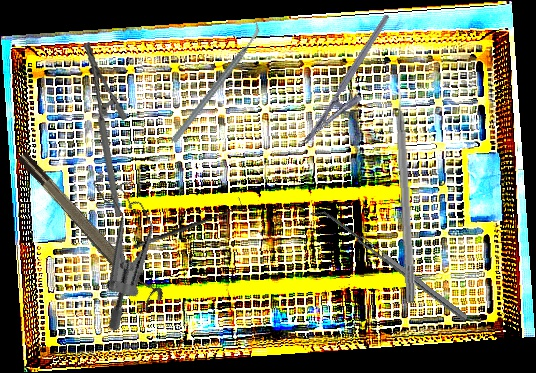Chopper: (140, 19, 292, 145)
Fixation Ring: (14, 143, 167, 313)
Hook Surgical: (129, 196, 245, 251)
Needle Holder: (57, 41, 147, 218), (301, 13, 408, 157)
Pusher: (393, 71, 419, 304)
Spatula Surgical: (309, 202, 469, 328)
Speculum: (44, 159, 190, 333)
